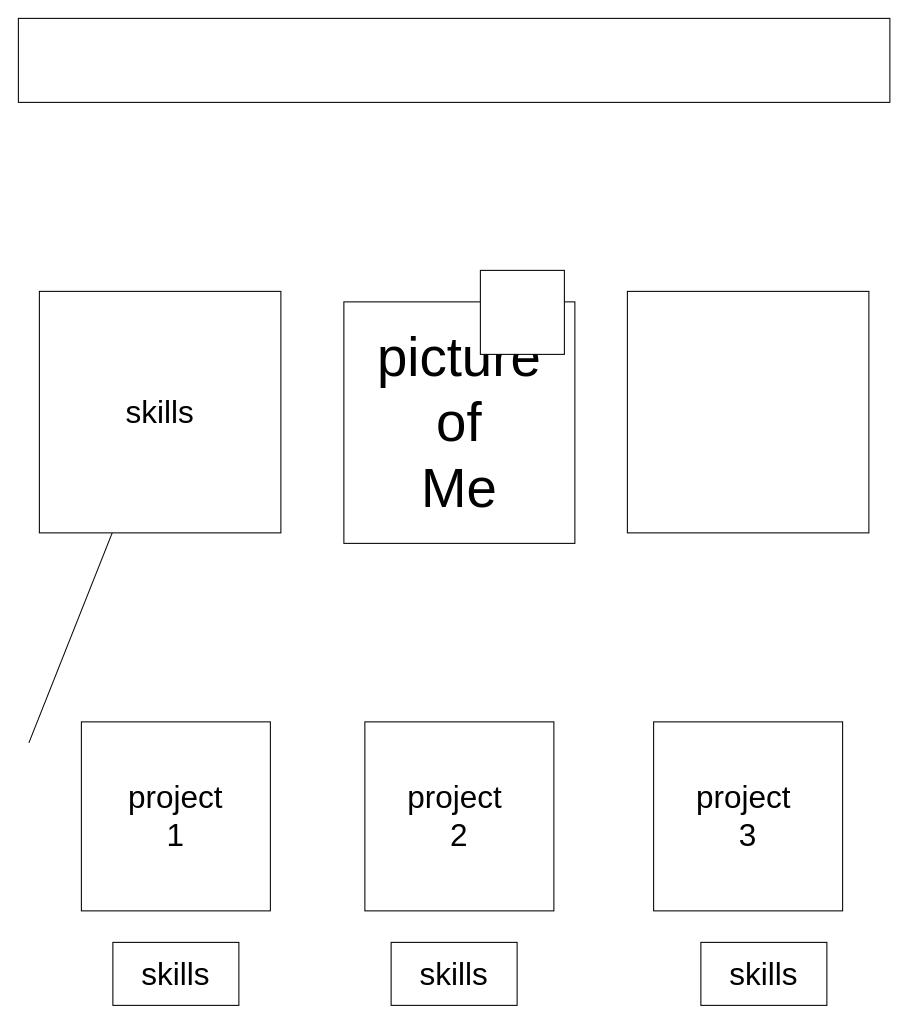
The diagram is 908 pixels wide and 1024 high, and some of its shapes have lost their labels. The shapes that lost their labels are listed below. From the top down, each one's centre as x and y in pixels, then its label:
At point 453,59: "nab bar and title".
At point 747,411: "about me".
